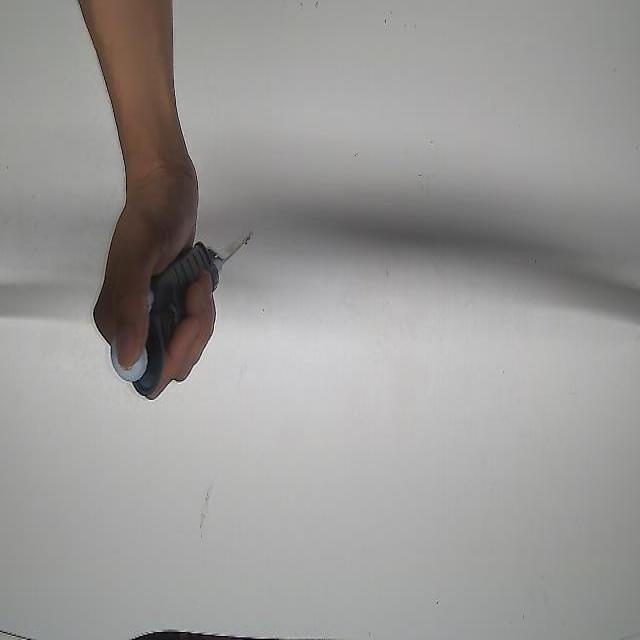Single Channel Pipettor: (108, 219, 257, 401)
